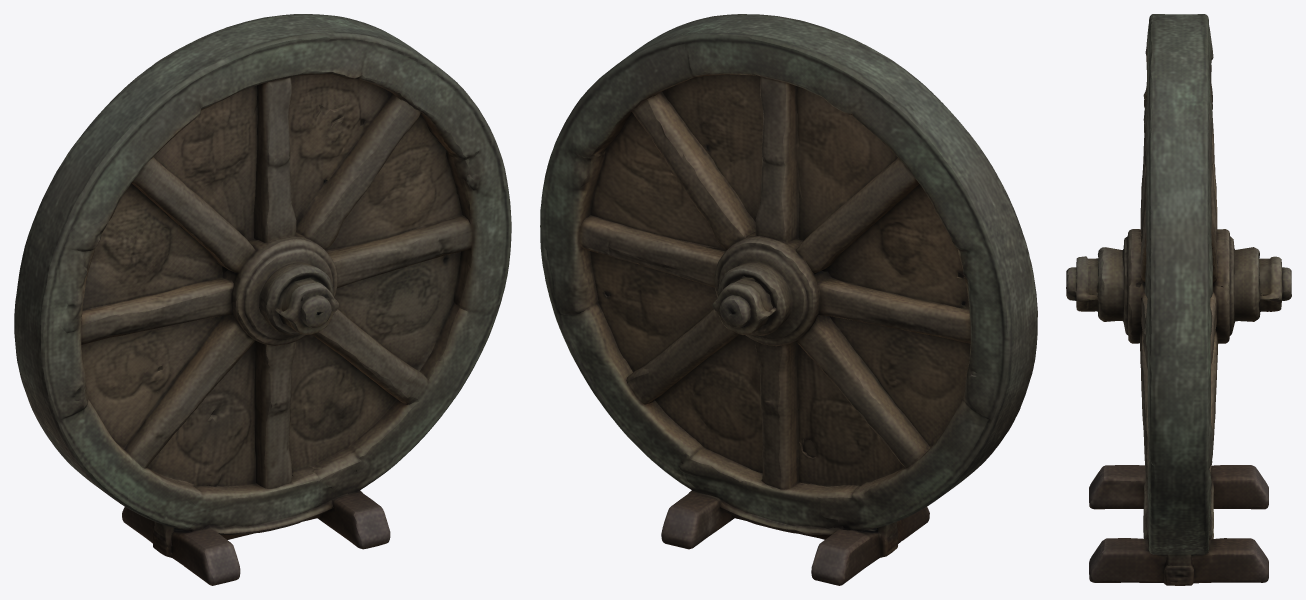
The model's file is six-realm-wheel.glb.
3 views of the same model, side by side, from view 1: azimuth 30°, elevation 25°; view 2: azimuth 150°, elevation 25°; view 3: azimuth 270°, elevation 25° (orthographic).
Parts seen in each view (by area): view 1: world; view 2: world; view 3: world.
Part boxes in pixels (x1,y1,x2,y2): world: (14,14,511,585); world: (540,14,1037,585); world: (1066,14,1291,585).
Size of the model in its own units: 0.8 by 0.812 by 0.3305.
Materials: 1 (1 with a texture image).
